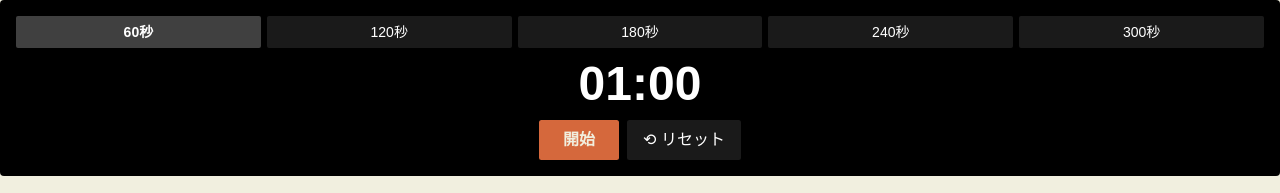
Test: RestTimer › プリセットで残り時間を切り替える
This screenshot has width=1280, height=193.
Click the button "180秒" at (640, 32), box top-left (518, 16), bottom-right (762, 48)
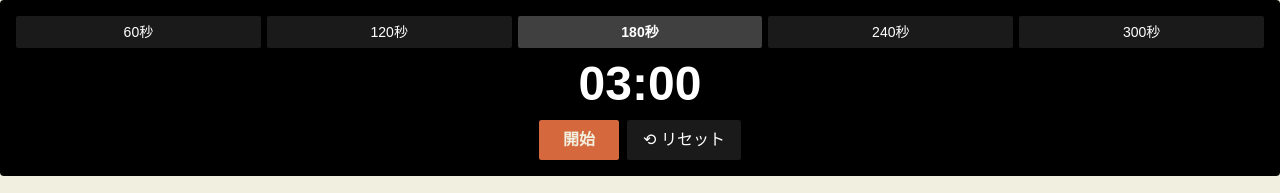
Expected: the text "03:00" is shown, top-left (579, 57), bottom-right (701, 110)
